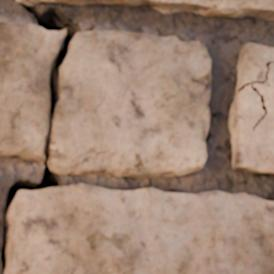brick: (5, 184, 273, 273), (17, 0, 273, 19), (229, 64, 273, 172), (237, 43, 273, 88)
broken_brick: (49, 30, 212, 179), (0, 21, 64, 163)
crack: (0, 2, 83, 271), (237, 60, 273, 131)
